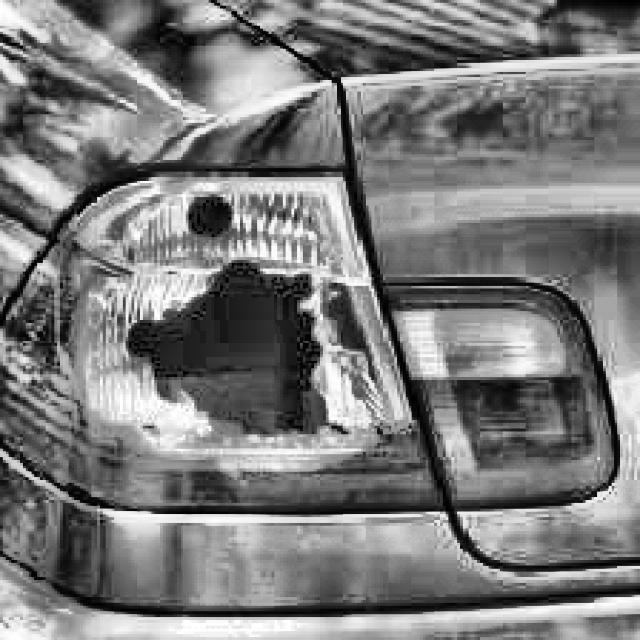tail_lamp: (83, 182, 373, 486)
